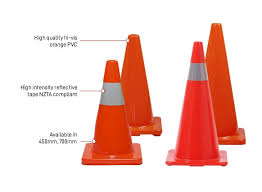cones: (168, 38, 230, 170), (75, 59, 145, 168), (206, 20, 250, 146), (120, 35, 165, 142)
